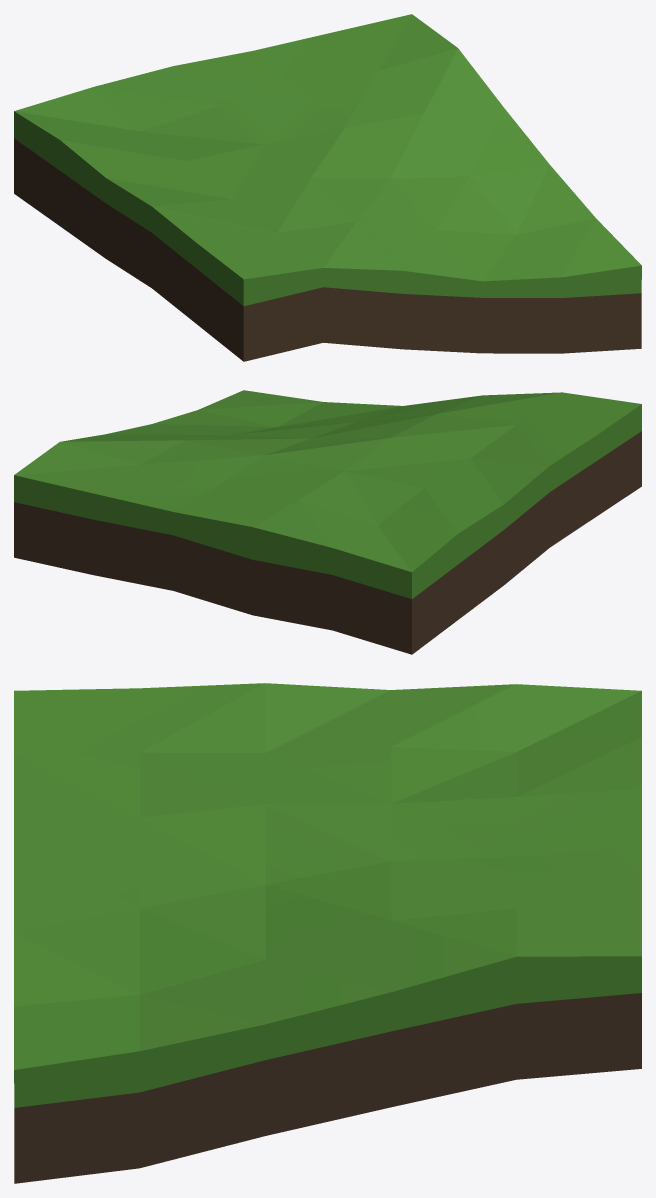
Rendered from terrains_terrain-world-valley4.fbx.
3 views of the same model, one above another, from view 1: azimuth 30°, elevation 25°; view 2: azimuth 150°, elevation 25°; view 3: azimuth 270°, elevation 25° (orthographic). The views are drawn at different scales.
Parts seen in each view (by area): view 1: terrains_terrain_world_valley4; view 2: terrains_terrain_world_valley4; view 3: terrains_terrain_world_valley4.
Boxes of the visible parts, bbox=[...] form: terrains_terrain_world_valley4: bbox=[14, 14, 641, 361]; terrains_terrain_world_valley4: bbox=[14, 390, 641, 654]; terrains_terrain_world_valley4: bbox=[14, 683, 641, 1183].
Bounding box in the file's own units: 200 × 82.97 × 200.
